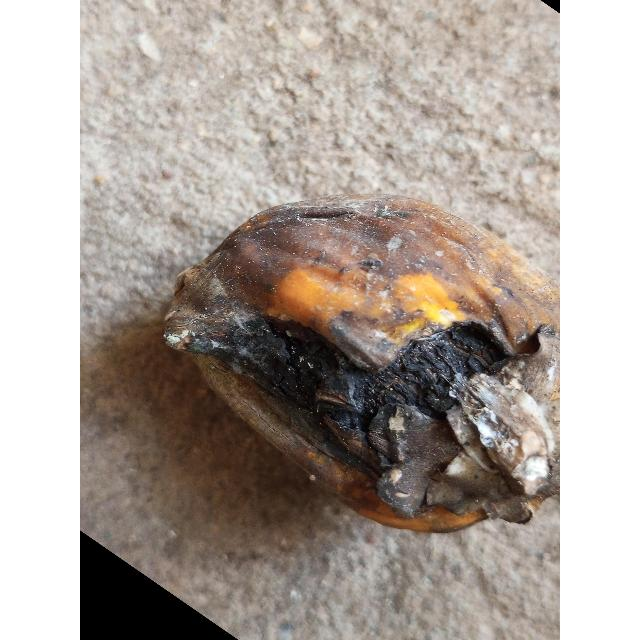damaged: (162, 195, 560, 536)
